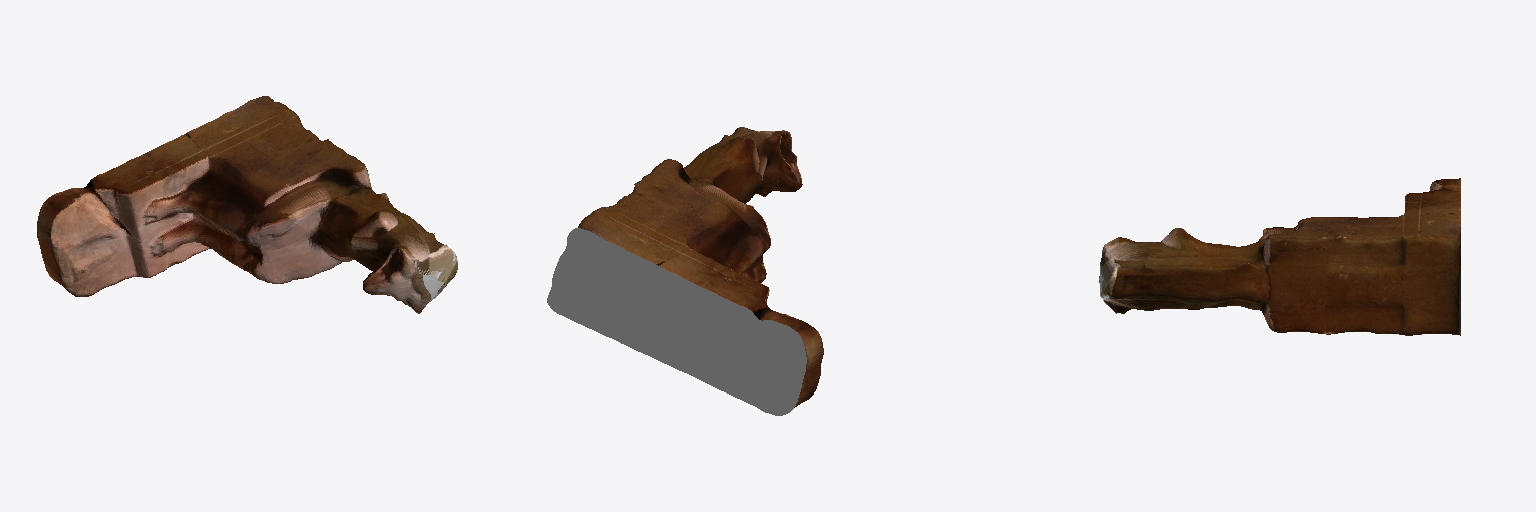
3 renders of one model, left to right at view 1: azimuth 30°, elevation 25°; view 2: azimuth 150°, elevation 25°; view 3: azimuth 270°, elevation 25°, orthographic.
Size of the model in its own units: 18.35 by 9.45 by 21.96.
Materials: 2 (2 with a texture image).